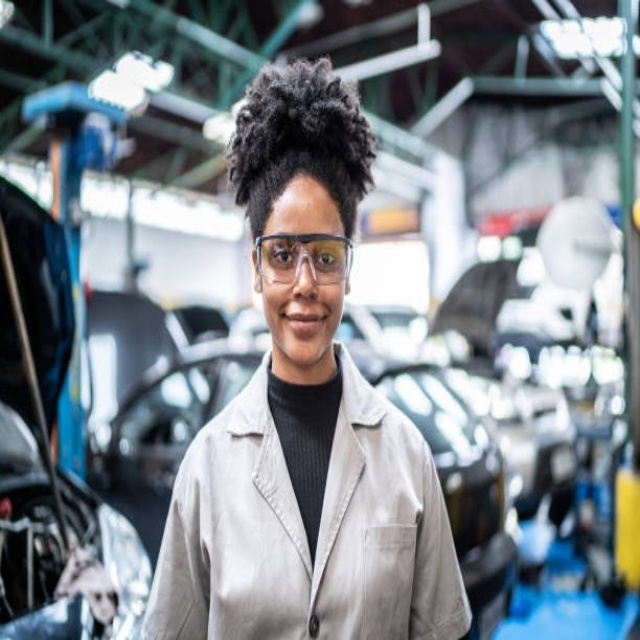Gafas: (254, 233, 355, 285)
Sin_mascara: (273, 300, 336, 355)
